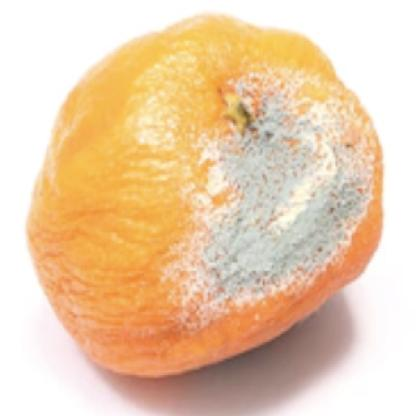rotten: (29, 12, 389, 377)
